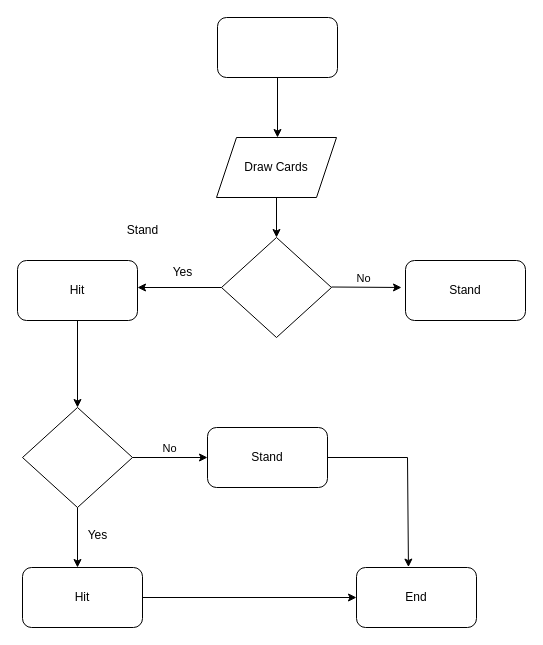
The diagram is 543 pixels wide and 645 high, and some of its shapes have lost their labels. Here are the shapes that lost their labels. From the top down, the centre of each, then its label:
the point at 277,47: Playing Blackjack
the point at 276,287: Is it below below 18?
the point at 77,457: Is it below below 17?
